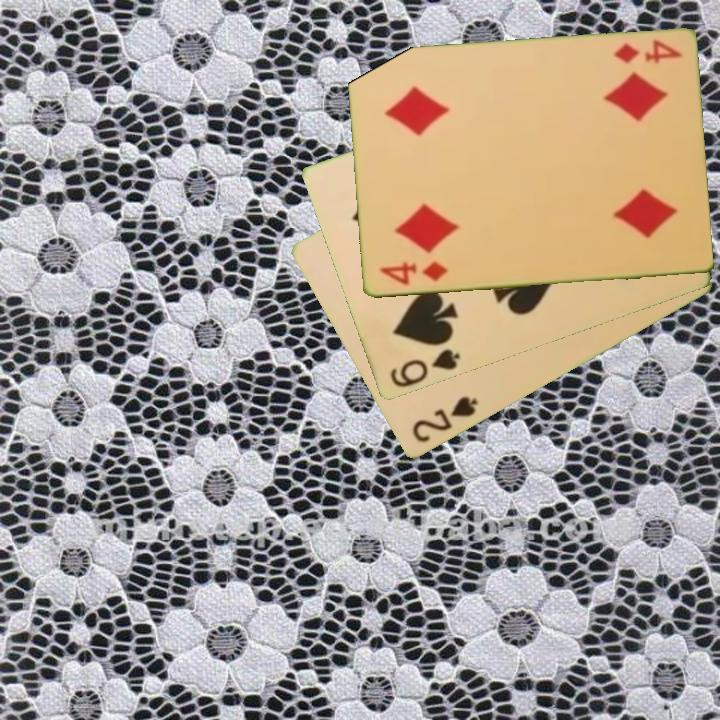2s: (408, 393, 481, 446)
4d: (376, 258, 450, 289), (610, 36, 684, 67)
6s: (386, 346, 463, 391)
